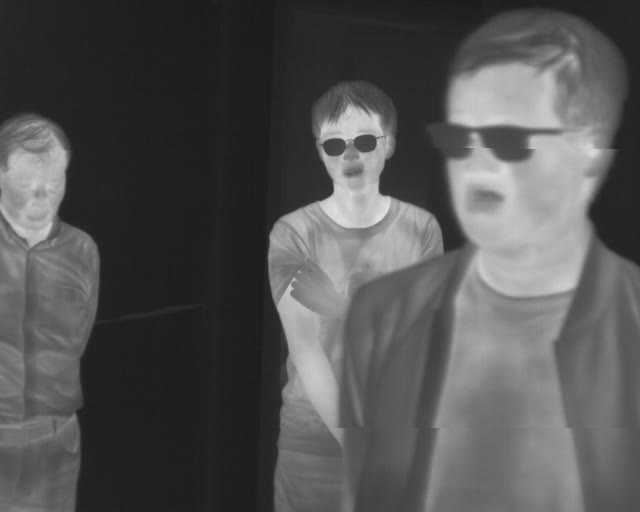face: (444, 6, 623, 251), (310, 79, 396, 194), (1, 110, 73, 232)
